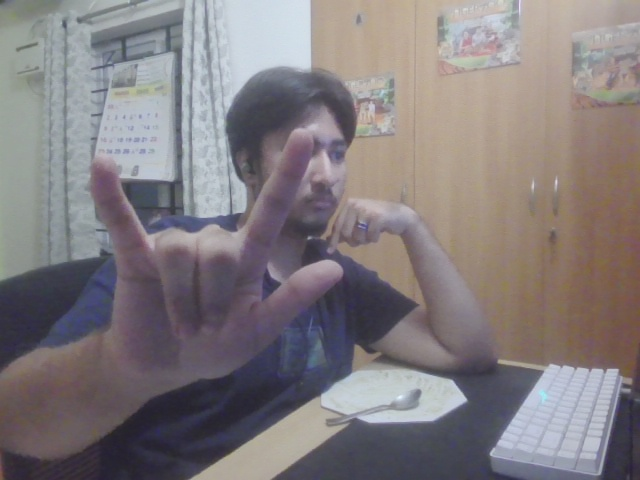iloveyou: (80, 124, 351, 389)
